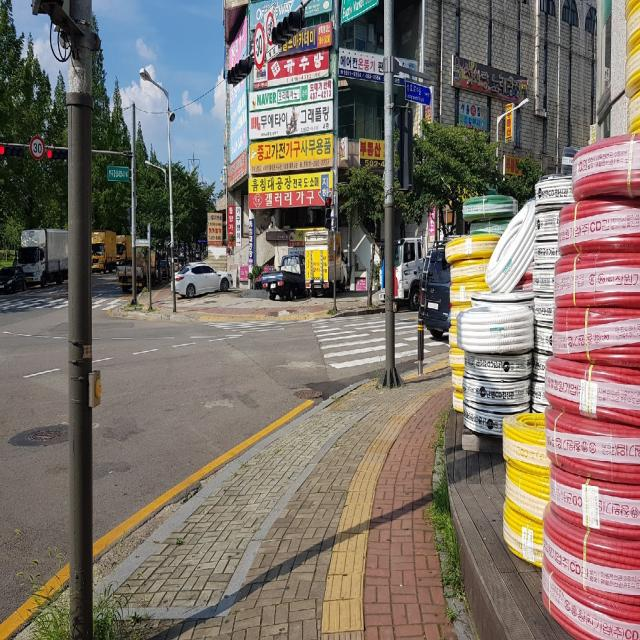횡단보도: (312, 316, 451, 370)
